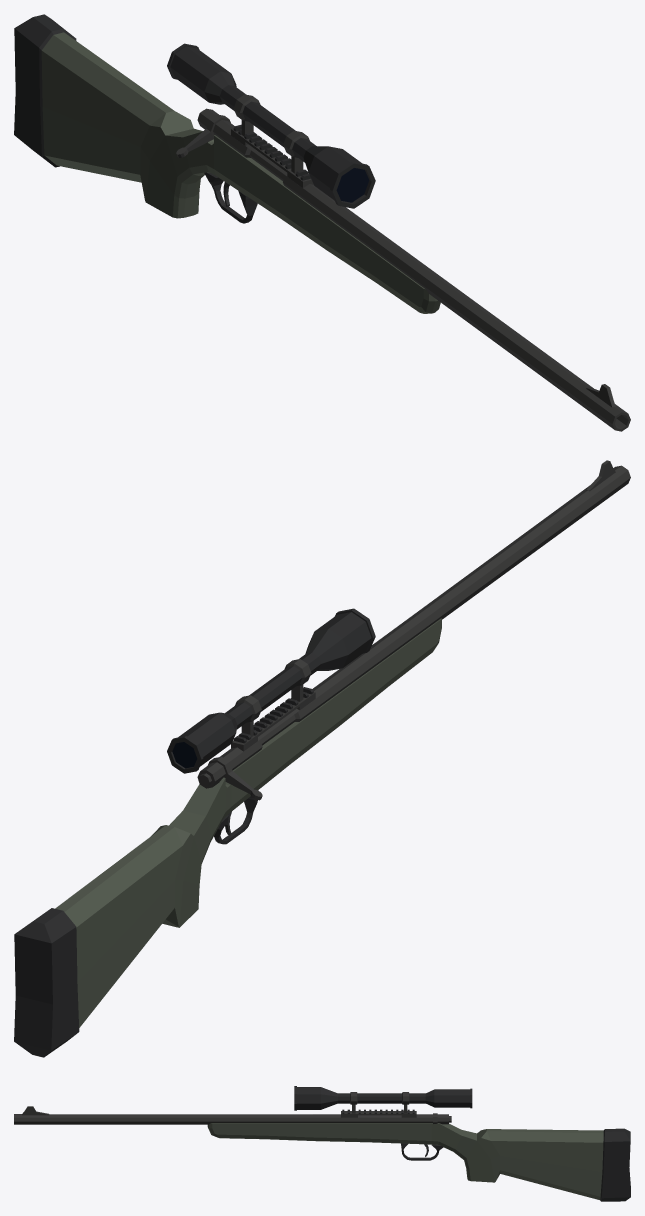
Rendered from sniper-1.glb.
3 renders of one model, top to bottom at view 1: azimuth 30°, elevation 25°; view 2: azimuth 150°, elevation 25°; view 3: azimuth 270°, elevation 25°, orthographic. The views are drawn at different scales.
Visible parts, largest first — view 1: sniper-1; view 2: sniper-1; view 3: sniper-1.
Part boxes in pixels (x1,y1,x2,y2): sniper-1: (14, 14, 630, 431); sniper-1: (14, 460, 630, 1057); sniper-1: (14, 1086, 630, 1201).
Size of the model in its own units: 0.0756 by 0.2441 by 1.2.
